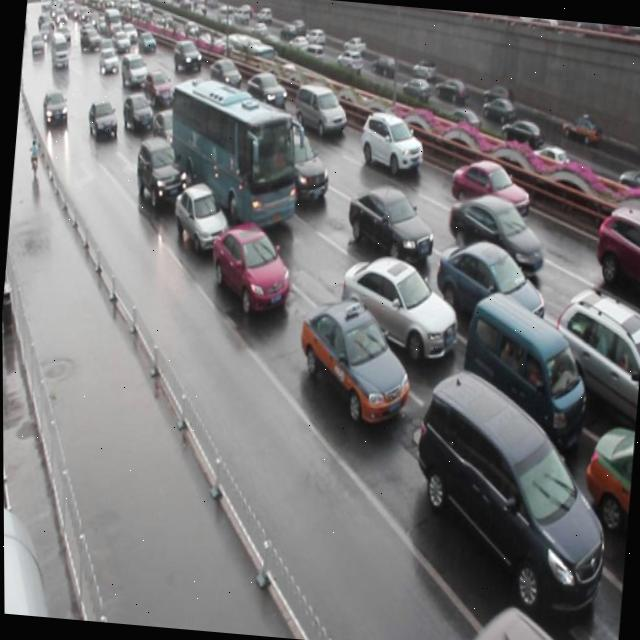car: (292, 294, 415, 424), (334, 251, 462, 366), (543, 281, 640, 427), (430, 233, 547, 336), (443, 190, 547, 276), (205, 217, 294, 315), (343, 182, 436, 264), (576, 420, 635, 544), (447, 154, 530, 222), (588, 199, 640, 303), (356, 108, 427, 176), (170, 178, 231, 254), (132, 134, 188, 208), (276, 130, 331, 204), (244, 68, 288, 112), (84, 96, 120, 142), (121, 91, 154, 133), (149, 106, 179, 150), (208, 54, 243, 90)
truck: (402, 367, 617, 616), (455, 286, 593, 440), (291, 80, 348, 138)
van: (161, 74, 303, 232)
